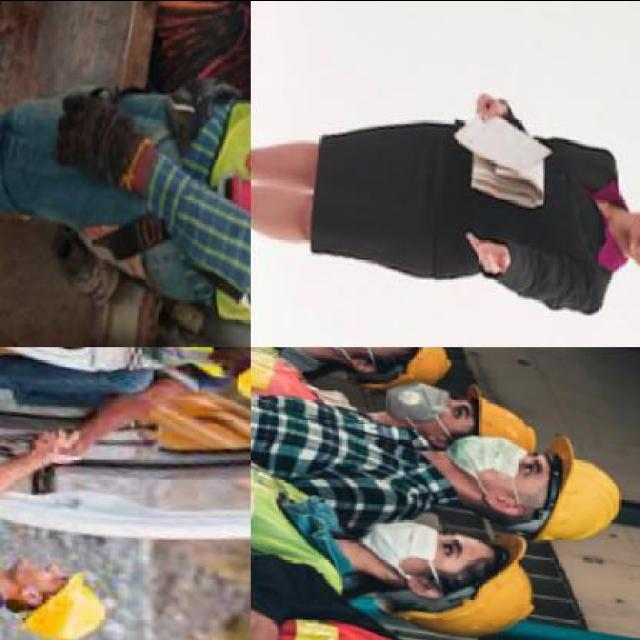helmet: (416, 524, 536, 636), (536, 426, 636, 554), (26, 556, 114, 640)
